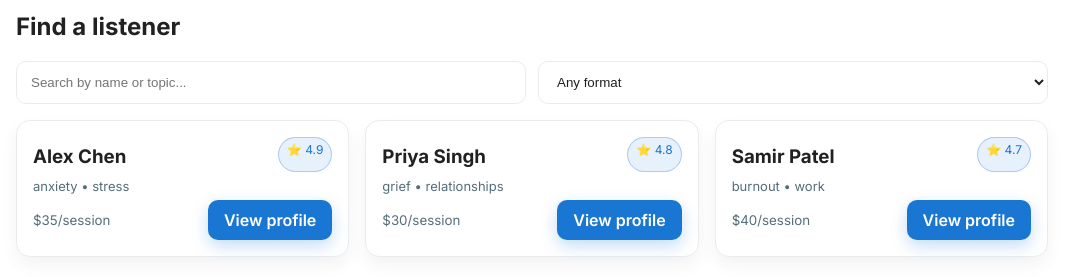
Scenario: Marketplace and Listener Profile › renders marketplace and filters listeners
Expected: the heading "Alex Chen" is shown, [33,145,126,168]
Expected: the heading "Priya Singh" is shown, [382,145,486,168]
# Filter by name
In the field with placeholder "Search by name or topic...": (271, 82) [16,61,526,104], type "samir"
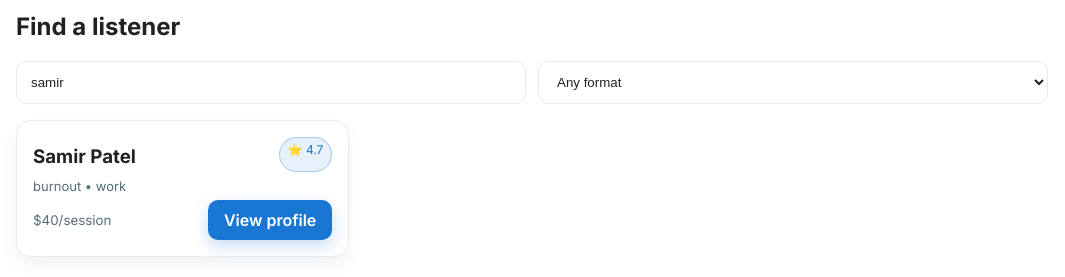
Expected: the heading "Samir Patel" is shown, [33,145,136,168]
Result: the heading "Alex Chen" is gone
